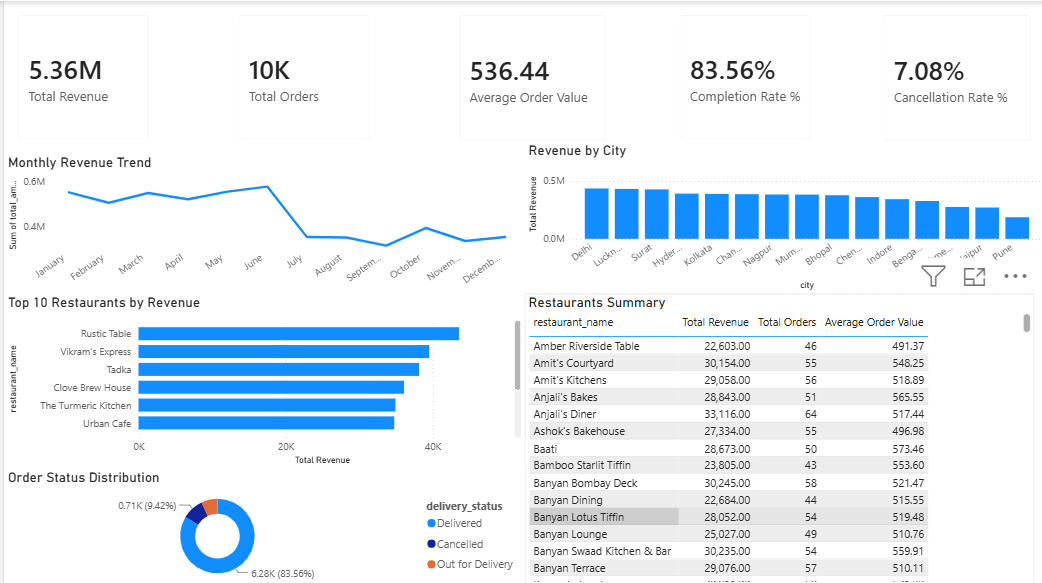

This screenshot's page, from the dashboard's own definition file:
{"tool":"powerbi","page":{"name":"Executive Dashboard","canvas":[1280,720],"ordinal":0},"visuals":[{"type":"lineChart","title":"Monthly Revenue Trend","fields":{"Y":["Sum(zomato_db orders.total_amount)"],"Category":["zomato_db orders.order_date.Variation.Date Hierarchy.Month"]},"box":[0,188.3,640,171.7],"z":0},{"type":"cardVisual","fields":{"Data":["zomato_db customers.Total Revenue"]},"box":[0,0,195,187.5],"z":1000},{"type":"cardVisual","fields":{"Data":["zomato_db customers.Total Orders"]},"box":[271.2,0,195,187.5],"z":2000},{"type":"cardVisual","fields":{"Data":["zomato_db customers.Average Order Value"]},"box":[542.5,0,195,187.5],"z":3000},{"type":"cardVisual","fields":{"Data":["zomato_db customers.Completion Rate %"]},"box":[813.8,0,195,187.5],"z":4000},{"type":"cardVisual","fields":{"Data":["zomato_db customers.Cancellation Rate %"]},"box":[1085,0,195,187.5],"z":5000},{"type":"clusteredColumnChart","title":"Revenue by City","fields":{"Category":["zomato_db restaurants.city"],"Y":["zomato_db customers.Total Revenue"]},"box":[640,173.3,640,186.7],"z":6000},{"type":"clusteredBarChart","title":"Top 10 Restaurants by Revenue","fields":{"Category":["zomato_db restaurants.restaurant_name"],"Y":["zomato_db customers.Total Revenue"]},"box":[0,360,640,215],"z":7000},{"type":"tableEx","title":" Restaurants Summary","fields":{"Values":["zomato_db restaurants.restaurant_name","zomato_db customers.Total Revenue","zomato_db customers.Total Orders","zomato_db customers.Average Order Value"]},"box":[640,360,626.7,360],"z":8000},{"type":"donutChart","title":"Order Status Distribution","fields":{"Category":["zomato_db deliveries.delivery_status"],"Y":["CountNonNull(zomato_db deliveries.delivery_id)"]},"box":[0,575,640,145],"z":9000}]}

Visuals, with their boxes in screenshot pixels (x1, y1, x2, y2), scaled from the page's 1280x720 canvas onto the 1042x583 screenshot:
"Monthly Revenue Trend" lineChart: (left=0, top=152, right=521, bottom=292)
cardVisual - zomato_db customers.Total Revenue: (left=0, top=0, right=159, bottom=152)
cardVisual - zomato_db customers.Total Orders: (left=221, top=0, right=380, bottom=152)
cardVisual - zomato_db customers.Average Order Value: (left=442, top=0, right=600, bottom=152)
cardVisual - zomato_db customers.Completion Rate %: (left=662, top=0, right=821, bottom=152)
cardVisual - zomato_db customers.Cancellation Rate %: (left=883, top=0, right=1041, bottom=152)
"Revenue by City" clusteredColumnChart: (left=521, top=140, right=1041, bottom=292)
"Top 10 Restaurants by Revenue" clusteredBarChart: (left=0, top=292, right=521, bottom=466)
" Restaurants Summary" tableEx: (left=521, top=292, right=1031, bottom=582)
"Order Status Distribution" donutChart: (left=0, top=466, right=521, bottom=582)
